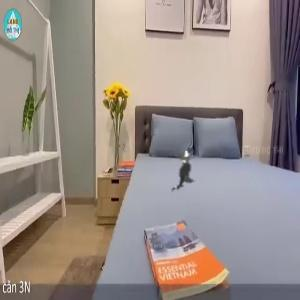drone: (101, 75, 280, 254)
